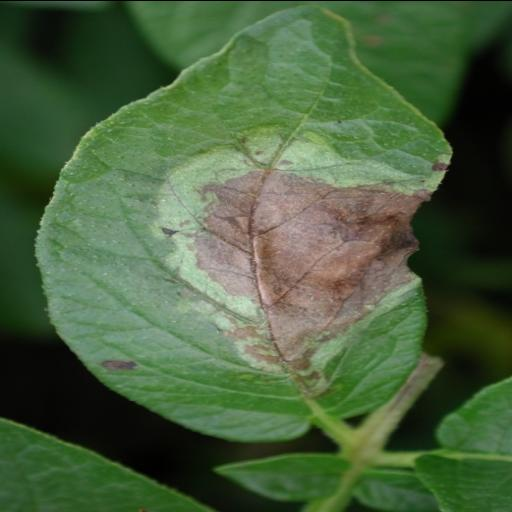disease_tomato: (34, 1, 470, 447)
